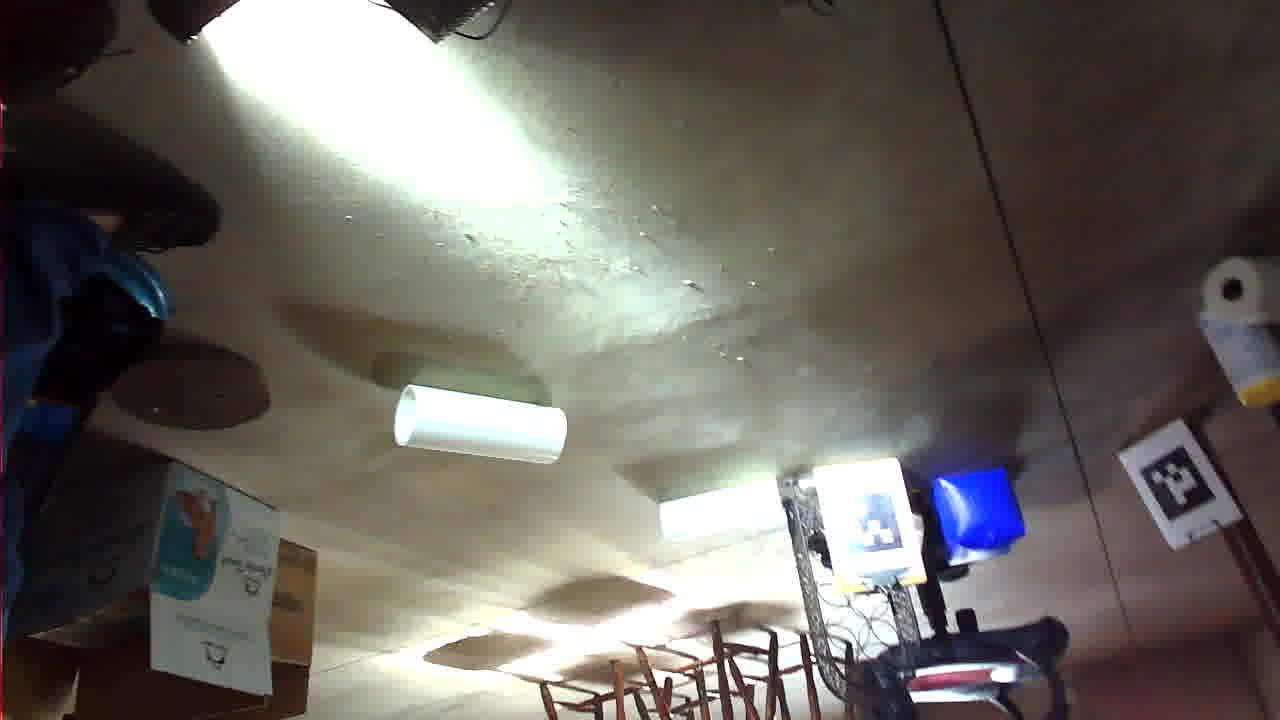coral: (714, 256, 886, 336), (495, 177, 621, 242)
